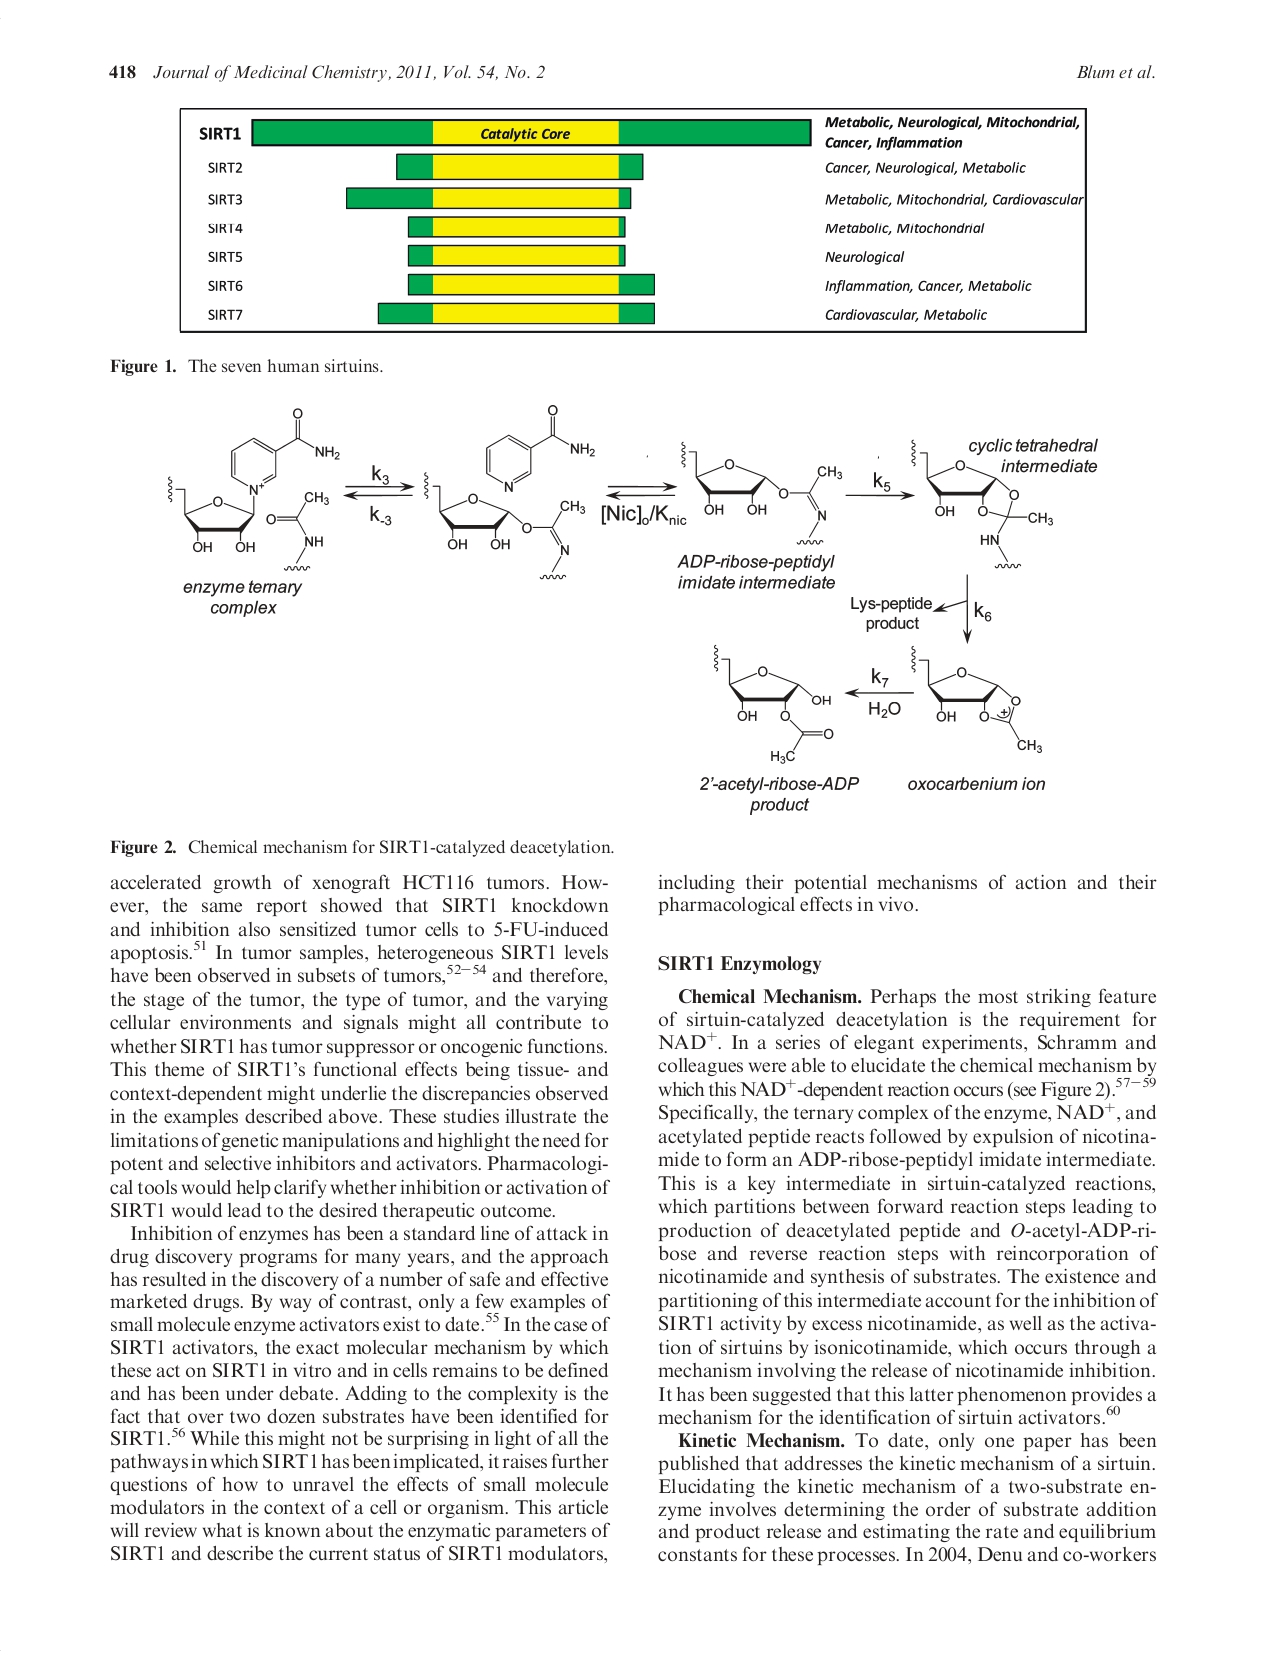exist_molecular: (162, 406, 342, 555), (904, 431, 1055, 573), (418, 469, 590, 586), (676, 436, 844, 547), (906, 641, 1044, 759), (707, 641, 838, 766), (481, 404, 601, 493), (265, 488, 334, 576)
